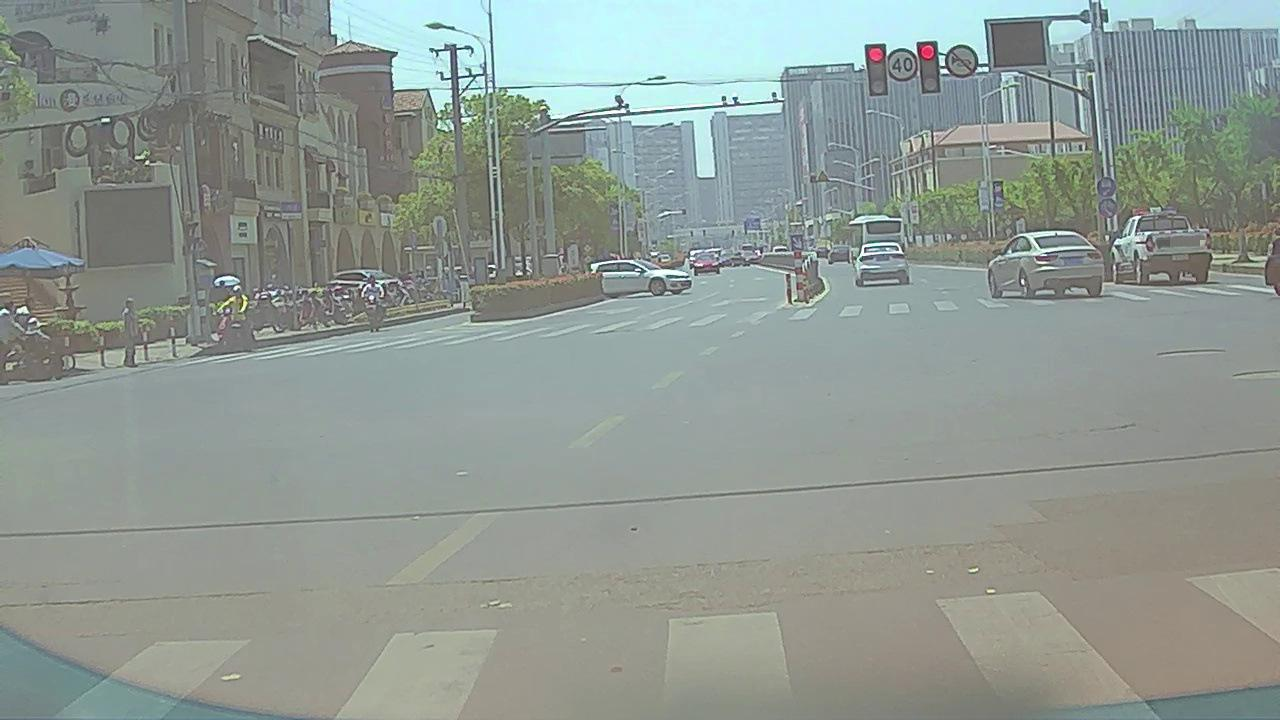traffic_light: (917, 43, 940, 94), (866, 45, 887, 95)
